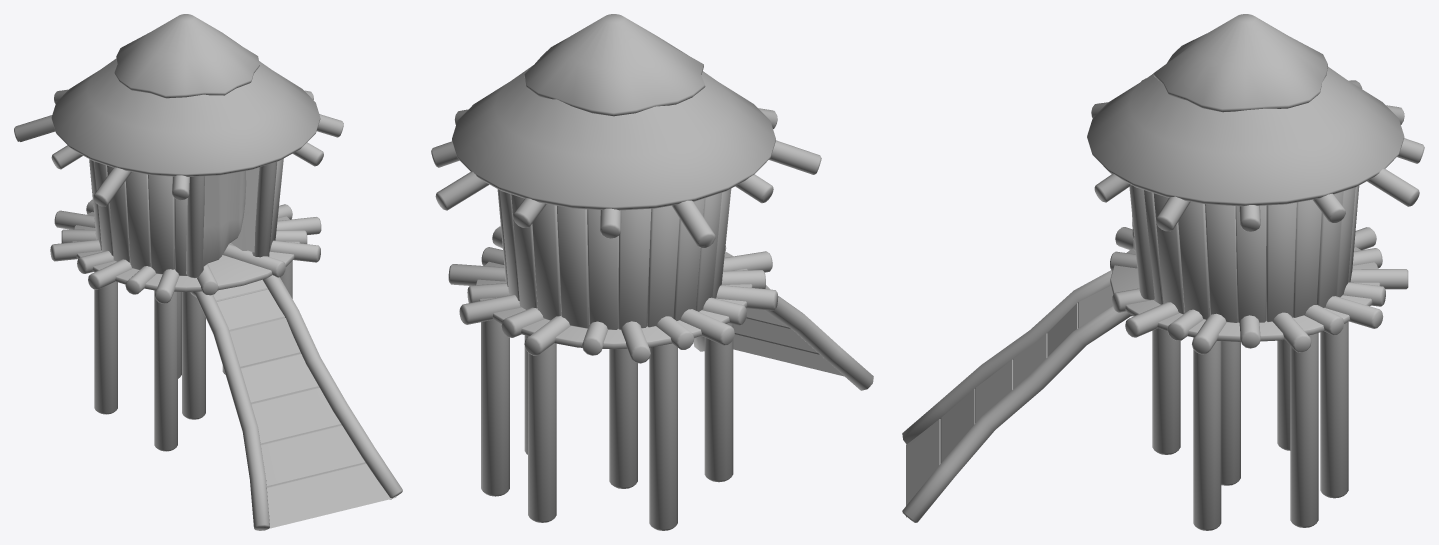
The model's file is House_lvl2.fbx.
3 views of the same model, side by side, from view 1: azimuth 30°, elevation 25°; view 2: azimuth 150°, elevation 25°; view 3: azimuth 270°, elevation 25° (orthographic). The views are drawn at different scales.
Visible parts, largest first — view 1: Lvl2_House; view 2: Lvl2_House; view 3: Lvl2_House.
Part boxes in pixels (x1,y1,x2,y2): Lvl2_House: (14, 14, 402, 530); Lvl2_House: (431, 14, 873, 530); Lvl2_House: (902, 14, 1424, 530).
Bounding box in the file's own units: 4.89 × 7.12 × 7.24.
